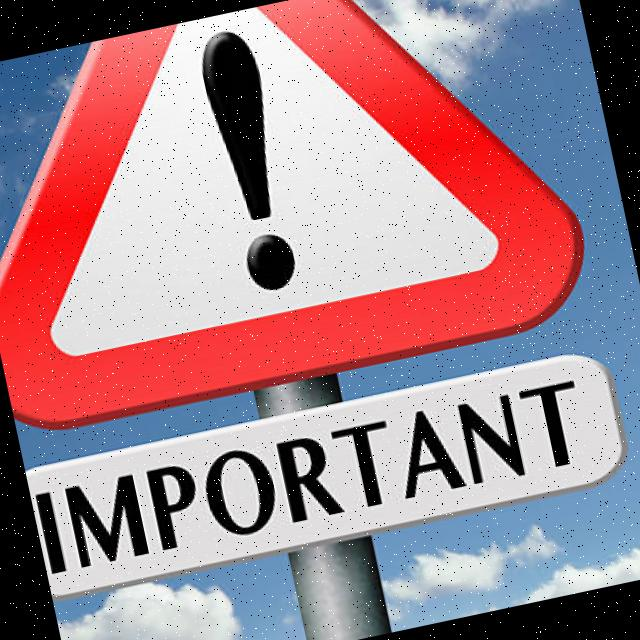warning: (0, 0, 615, 446)
